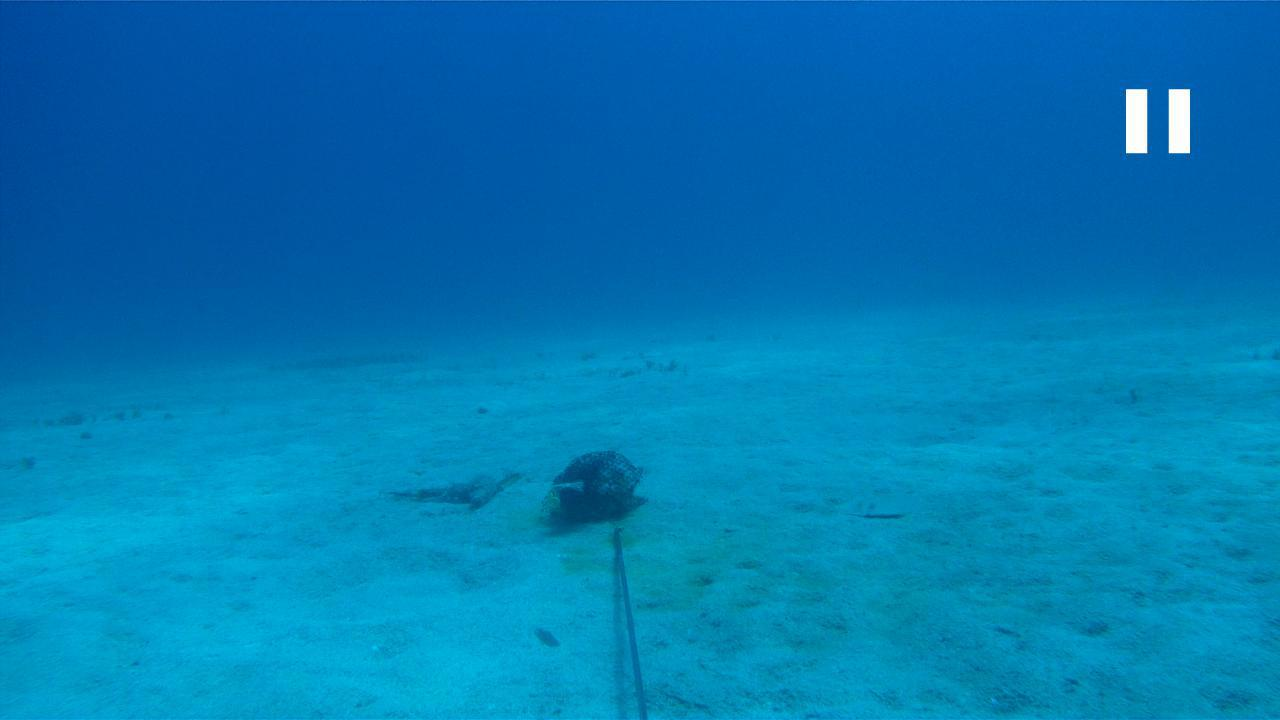bothus: (840, 491, 910, 519)
